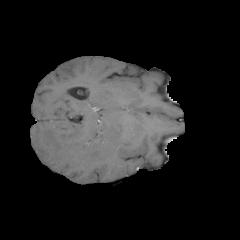glioma: (34, 111, 132, 173)
